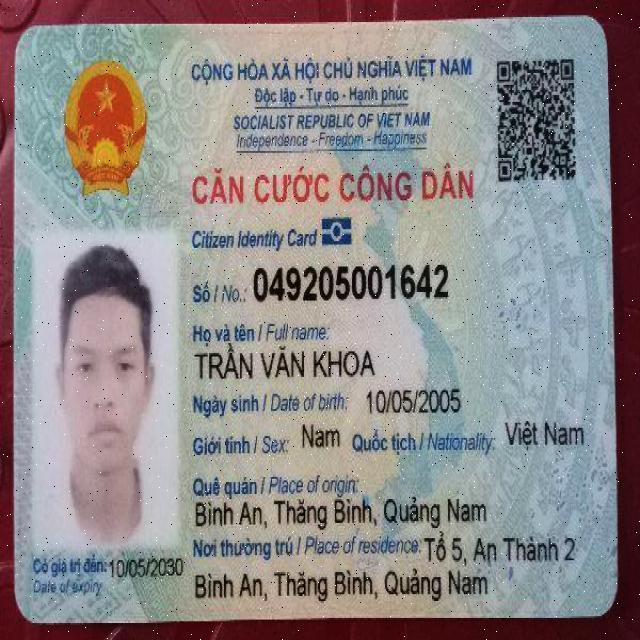current_place: (191, 567, 490, 604), (195, 495, 490, 529), (422, 531, 579, 567)
dob: (366, 386, 463, 417)
expire_date: (109, 555, 186, 581)
gender: (300, 418, 350, 451)
id: (249, 258, 450, 304)
name: (193, 341, 381, 387)
nationality: (498, 407, 588, 452)
qr: (494, 52, 582, 190)
